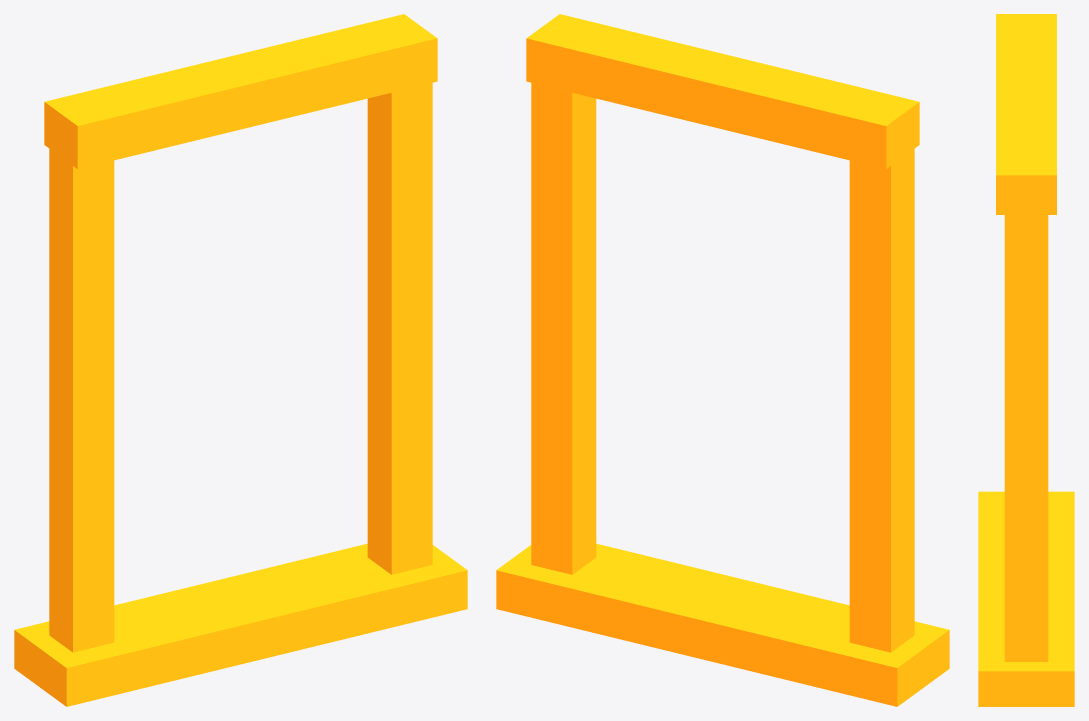
Rendered from dubai-frame.glb.
3 renders of one model, left to right at view 1: azimuth 30°, elevation 25°; view 2: azimuth 150°, elevation 25°; view 3: azimuth 270°, elevation 25°, orthographic. The views are drawn at different scales.
Size of the model in its own units: 10.7 by 14.5 by 2.42.
